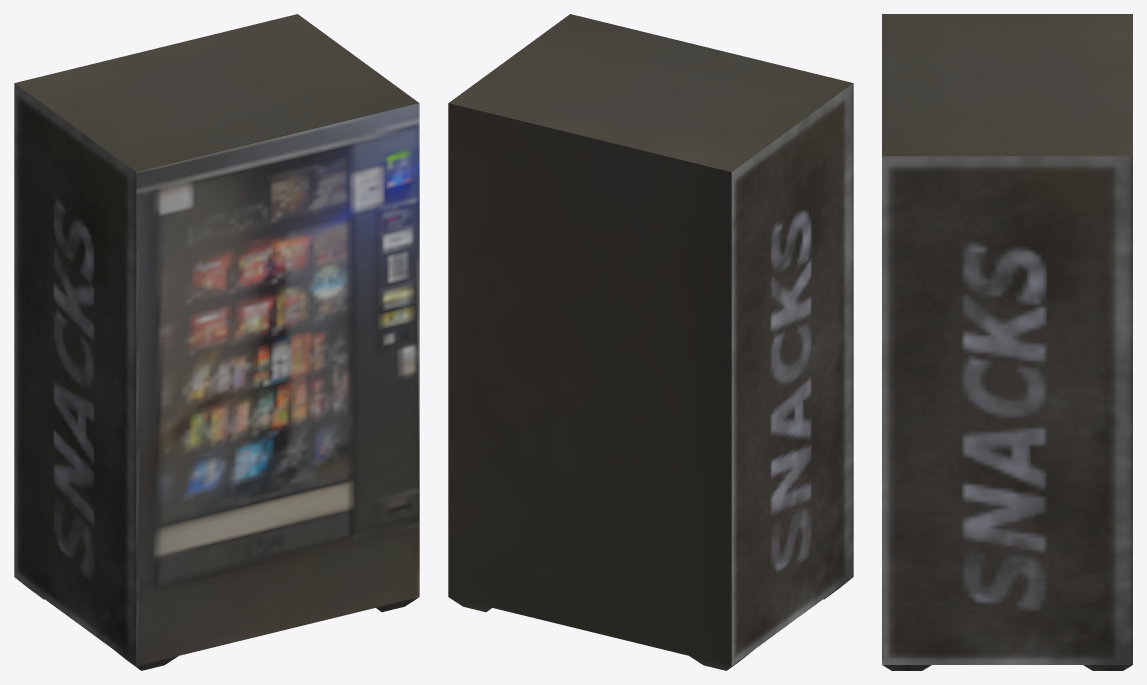
File: vendingmachine.fbx
The picture shows the model from 3 angles, left to right: view 1: azimuth 30°, elevation 25°; view 2: azimuth 150°, elevation 25°; view 3: azimuth 270°, elevation 25°; orthographic projection. The views are drawn at different scales.
Visible parts, largest first — view 1: vendingmachine; view 2: vendingmachine; view 3: vendingmachine.
Part boxes in pixels (x1,y1,x2,y2): vendingmachine: (14, 14, 419, 670); vendingmachine: (448, 14, 853, 670); vendingmachine: (882, 14, 1132, 670).
Size of the model in its own units: 186 by 316 by 138.
